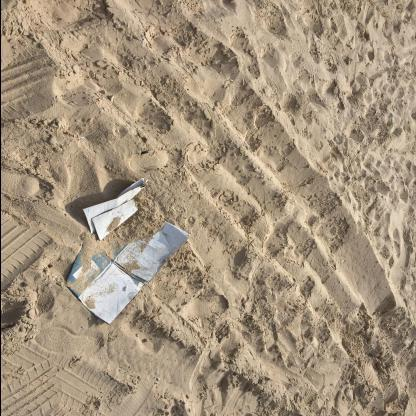karton: (66, 178, 192, 326)
